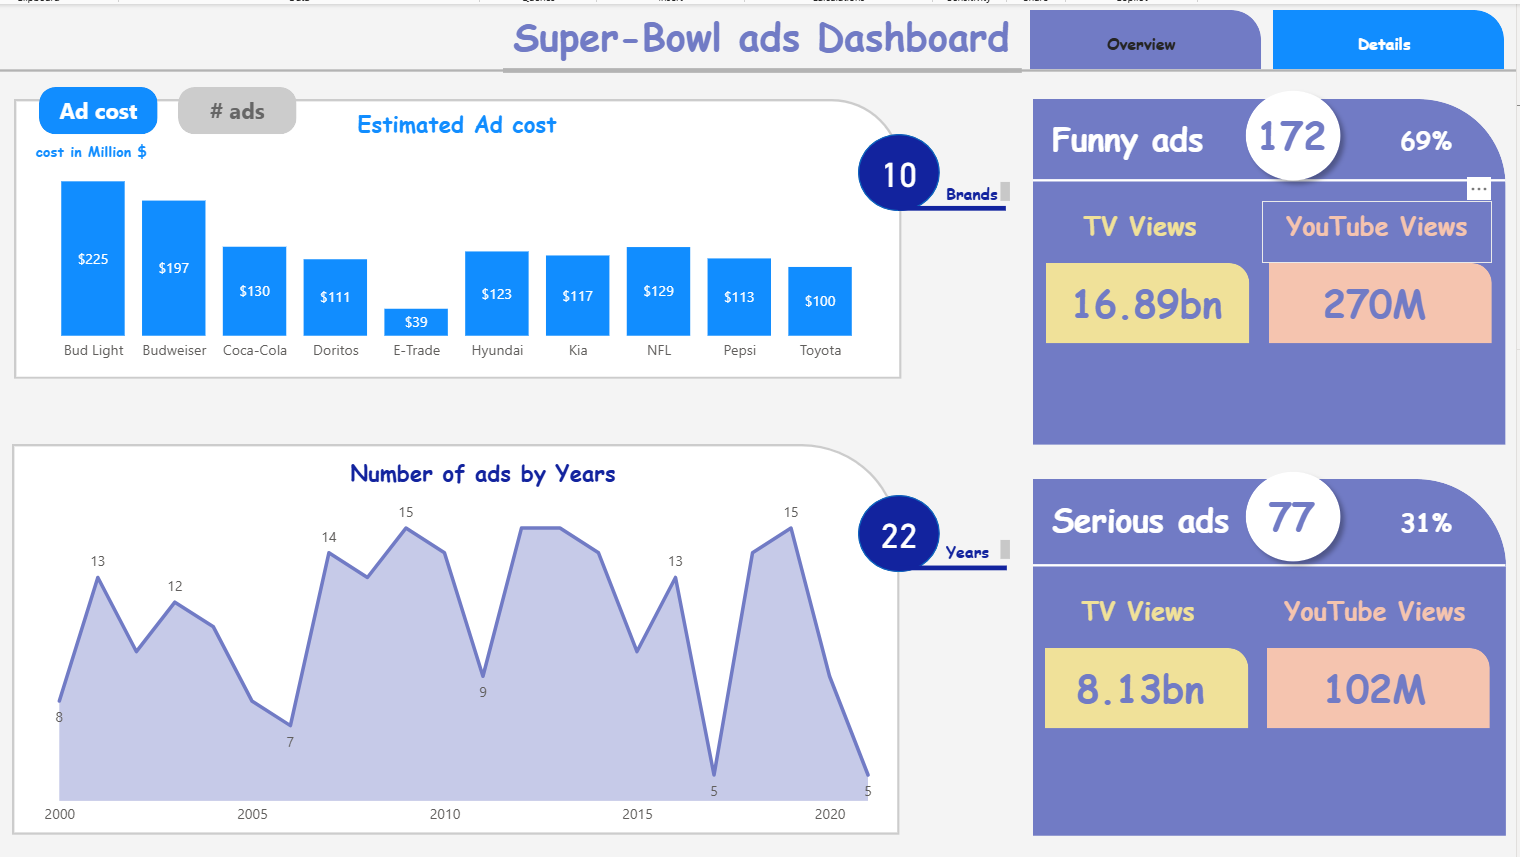

The page's visual inventory and layout, read from the dashboard file:
{"tool":"powerbi","page":{"name":"Details","canvas":[1280,720],"ordinal":1},"visuals":[{"type":"textbox","box":[428.9,0,486.3,62.2],"z":0},{"type":"actionButton","title":"Ad cost","box":[33.5,69.8,100.2,39.9],"z":0,"group":"g2"},{"type":"actionButton","title":"Ad cost","box":[33.8,69.9,100.2,39.9],"z":0,"group":"g1"},{"type":"shape","box":[425,49.6,437.7,12.6],"z":1000},{"type":"actionButton","title":"#  ads","box":[151.5,69.9,100.2,39.9],"z":1000,"group":"g1"},{"type":"shape","box":[0,49.6,428.9,12.6],"z":2000},{"type":"shape","box":[851.1,49.6,428.9,12.6],"z":3000},{"type":"shape","box":[12.6,79.8,748.9,236.4],"z":4000},{"type":"shape","box":[10.7,371.6,748.9,329.7],"z":5000},{"type":"areaChart","title":"Number of ads by Years","fields":{"Category":["Dim_Year.Year"],"Y":["Measure Table.Total Records"]},"box":[33.1,381.3,750.9,320],"z":6000},{"type":"shape","box":[724.6,109.9,69.1,65.2],"z":7000},{"type":"shape","box":[724.6,414.3,69.1,65.2],"z":8000},{"type":"card","fields":{"Values":["Measure Table.#  Brands"]},"box":[731.4,116.7,55.4,52.5],"z":9000},{"type":"card","fields":{"Values":["Measure Table.# Year"]},"box":[731.4,421.2,55.4,52.5],"z":10000},{"type":"shape","box":[758.1,166.4,91.4,12.3],"z":11000},{"type":"shape","box":[759.2,469.5,91.4,13.4],"z":12000},{"type":"textbox","box":[793.7,144.9,64.2,26.3],"z":13000},{"type":"textbox","box":[793.7,447.4,64.2,26.3],"z":14000},{"type":"shape","box":[872.5,79.8,398.8,291.8],"z":15000},{"type":"shape","box":[872.1,400.4,399.3,301.4],"z":16000},{"type":"textbox","box":[883.2,90.5,145.9,52.5],"z":17000},{"type":"textbox","box":[883.2,411.4,171.2,52.5],"z":18000},{"type":"group","id":"g1","title":"InActiv Btn","box":[33.8,69.9,216.5,40.6],"z":19000},{"type":"group","id":"g2","title":"Active Btn","box":[33.5,69.8,217.4,40.3],"z":20000},{"type":"group","id":"g3","title":"Charts","box":[20,87.2,732.6,223.3],"z":21000},{"type":"clusteredColumnChart","title":"Estimated Ad cost","fields":{"Y":["Measure Table.Ad cost"],"Category":["Dim_Brands.Brand"]},"box":[20,87.5,732.6,223],"z":22000,"group":"g3"},{"type":"shape","box":[872.2,142.8,398.6,12.3],"z":22000},{"type":"shape","box":[872.2,467.4,398.6,12.3],"z":23000},{"type":"shape","box":[1042.5,63.9,98,93.7],"z":24000},{"type":"card","fields":{"Values":["Measure Table.# Funny ads"]},"box":[1050,80.9,82,59.6],"z":25000},{"type":"shape","box":[1042.5,385.5,98,93.7],"z":26000},{"type":"card","fields":{"Values":["Measure Table.# Serious ads"]},"box":[1050,402.5,82,59.6],"z":27000},{"type":"card","fields":{"Values":["Measure Table.% Funyy ads"]},"box":[1163.9,87.3,81.2,59.6],"z":28000},{"type":"card","fields":{"Values":["Measure Table.% Serious ads"]},"box":[1163.9,408.9,81.2,59.6],"z":29000},{"type":"shape","box":[1071.5,218.8,188,67.8],"z":30000},{"type":"textbox","box":[895.8,166.4,133.5,52.4],"z":31000},{"type":"textbox","box":[1065.3,166.4,194.2,52.4],"z":32000},{"type":"shape","box":[883.5,218.8,171.6,67.8],"z":33000},{"type":"shape","box":[1070.2,543.2,188,67.8],"z":34000},{"type":"textbox","box":[894.5,490.8,133.5,52.4],"z":35000},{"type":"textbox","box":[1064,490.8,194.2,52.4],"z":36000},{"type":"shape","box":[882.2,543.2,171.6,67.8],"z":37000},{"type":"card","fields":{"Values":["Measure Table.# YouTube Funny ads"]},"box":[1085.8,222.9,149,59.6],"z":38000},{"type":"card","fields":{"Values":["Measure Table.# YouTube Serious ads"]},"box":[1085.8,547.5,149,59.6],"z":39000},{"type":"card","fields":{"Values":["Measure Table.# TV Funny ads"]},"box":[893.4,222.6,149.1,59.6],"z":40000},{"type":"card","fields":{"Values":["Measure Table.# TV Serious ads"]},"box":[888.1,547.4,149.1,59.6],"z":41000},{"type":"pageNavigator","box":[870,5.3,400.4,50],"z":42000},{"type":"textbox","box":[10.6,109.7,134.2,28.8],"z":43000}]}

Visuals, with their boxes in screenshot pixels (x1, y1, x2, y2), scaled from the page's 1280x720 canvas onto the 1520x857 screenshot:
textbox: {"left": 509, "top": 0, "right": 1087, "bottom": 74}
"Ad cost" actionButton: {"left": 40, "top": 83, "right": 159, "bottom": 131}
"Ad cost" actionButton: {"left": 40, "top": 83, "right": 159, "bottom": 131}
shape: {"left": 505, "top": 59, "right": 1024, "bottom": 74}
"#  ads" actionButton: {"left": 180, "top": 83, "right": 299, "bottom": 131}
shape: {"left": 0, "top": 59, "right": 509, "bottom": 74}
shape: {"left": 1011, "top": 59, "right": 1519, "bottom": 74}
shape: {"left": 15, "top": 95, "right": 904, "bottom": 376}
shape: {"left": 13, "top": 442, "right": 902, "bottom": 835}
"Number of ads by Years" areaChart: {"left": 39, "top": 454, "right": 931, "bottom": 835}
shape: {"left": 860, "top": 131, "right": 943, "bottom": 208}
shape: {"left": 860, "top": 493, "right": 943, "bottom": 571}
card - Measure Table.#  Brands: {"left": 869, "top": 139, "right": 934, "bottom": 201}
card - Measure Table.# Year: {"left": 869, "top": 501, "right": 934, "bottom": 564}
shape: {"left": 900, "top": 198, "right": 1009, "bottom": 213}
shape: {"left": 902, "top": 559, "right": 1010, "bottom": 575}
textbox: {"left": 943, "top": 172, "right": 1019, "bottom": 204}
textbox: {"left": 943, "top": 533, "right": 1019, "bottom": 564}
shape: {"left": 1036, "top": 95, "right": 1510, "bottom": 442}
shape: {"left": 1036, "top": 477, "right": 1510, "bottom": 835}
textbox: {"left": 1049, "top": 108, "right": 1222, "bottom": 170}
textbox: {"left": 1049, "top": 490, "right": 1252, "bottom": 552}
"InActiv Btn" group: {"left": 40, "top": 83, "right": 297, "bottom": 132}
"Active Btn" group: {"left": 40, "top": 83, "right": 298, "bottom": 131}
"Charts" group: {"left": 24, "top": 104, "right": 894, "bottom": 370}
"Estimated Ad cost" clusteredColumnChart: {"left": 24, "top": 104, "right": 894, "bottom": 370}
shape: {"left": 1036, "top": 170, "right": 1509, "bottom": 185}
shape: {"left": 1036, "top": 556, "right": 1509, "bottom": 571}
shape: {"left": 1238, "top": 76, "right": 1354, "bottom": 188}
card - Measure Table.# Funny ads: {"left": 1247, "top": 96, "right": 1344, "bottom": 167}
shape: {"left": 1238, "top": 459, "right": 1354, "bottom": 570}
card - Measure Table.# Serious ads: {"left": 1247, "top": 479, "right": 1344, "bottom": 550}
card - Measure Table.% Funyy ads: {"left": 1382, "top": 104, "right": 1479, "bottom": 175}
card - Measure Table.% Serious ads: {"left": 1382, "top": 487, "right": 1479, "bottom": 558}
shape: {"left": 1272, "top": 260, "right": 1496, "bottom": 341}
textbox: {"left": 1064, "top": 198, "right": 1222, "bottom": 260}
textbox: {"left": 1265, "top": 198, "right": 1496, "bottom": 260}
shape: {"left": 1049, "top": 260, "right": 1253, "bottom": 341}
shape: {"left": 1271, "top": 647, "right": 1494, "bottom": 727}
textbox: {"left": 1062, "top": 584, "right": 1221, "bottom": 647}
textbox: {"left": 1264, "top": 584, "right": 1494, "bottom": 647}
shape: {"left": 1048, "top": 647, "right": 1251, "bottom": 727}
card - Measure Table.# YouTube Funny ads: {"left": 1289, "top": 265, "right": 1466, "bottom": 336}
card - Measure Table.# YouTube Serious ads: {"left": 1289, "top": 652, "right": 1466, "bottom": 723}
card - Measure Table.# TV Funny ads: {"left": 1061, "top": 265, "right": 1238, "bottom": 336}
card - Measure Table.# TV Serious ads: {"left": 1055, "top": 652, "right": 1232, "bottom": 722}
pageNavigator: {"left": 1033, "top": 6, "right": 1509, "bottom": 66}
textbox: {"left": 13, "top": 131, "right": 172, "bottom": 165}
